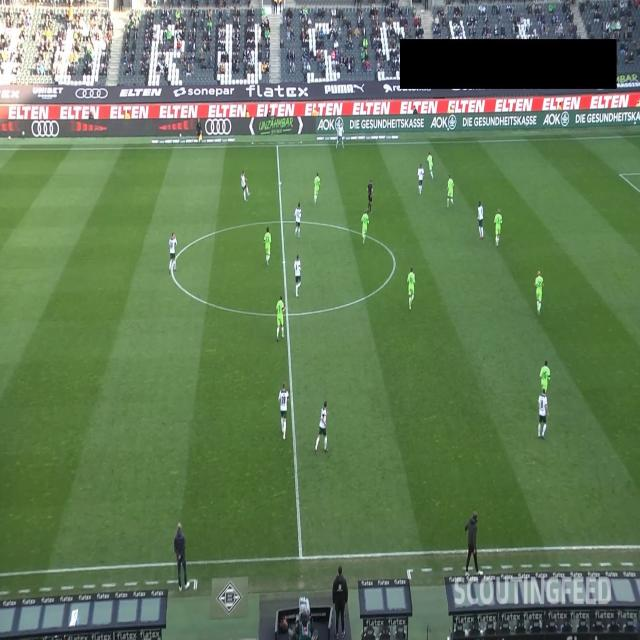ball: (278, 180, 282, 188)
